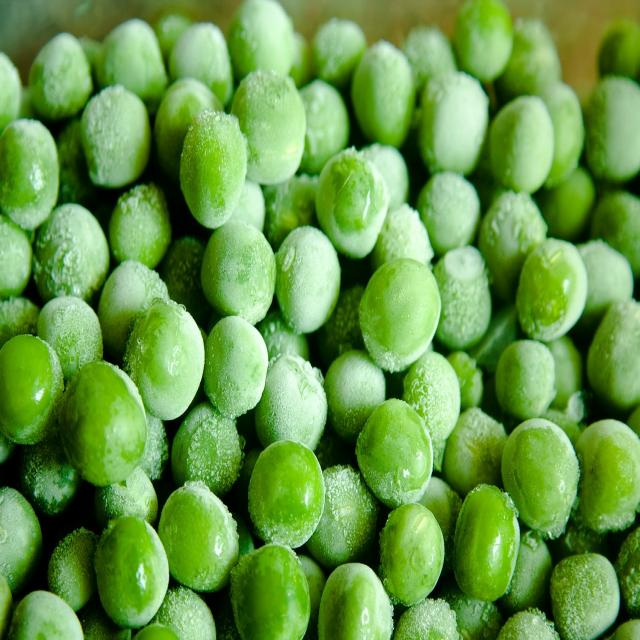pea: (1, 7, 640, 640)
